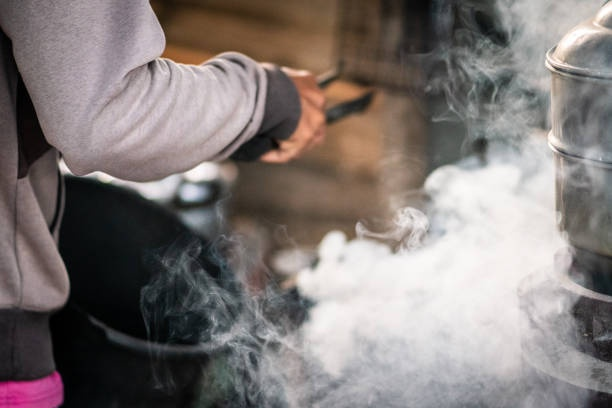smoke: (229, 166, 561, 408)
